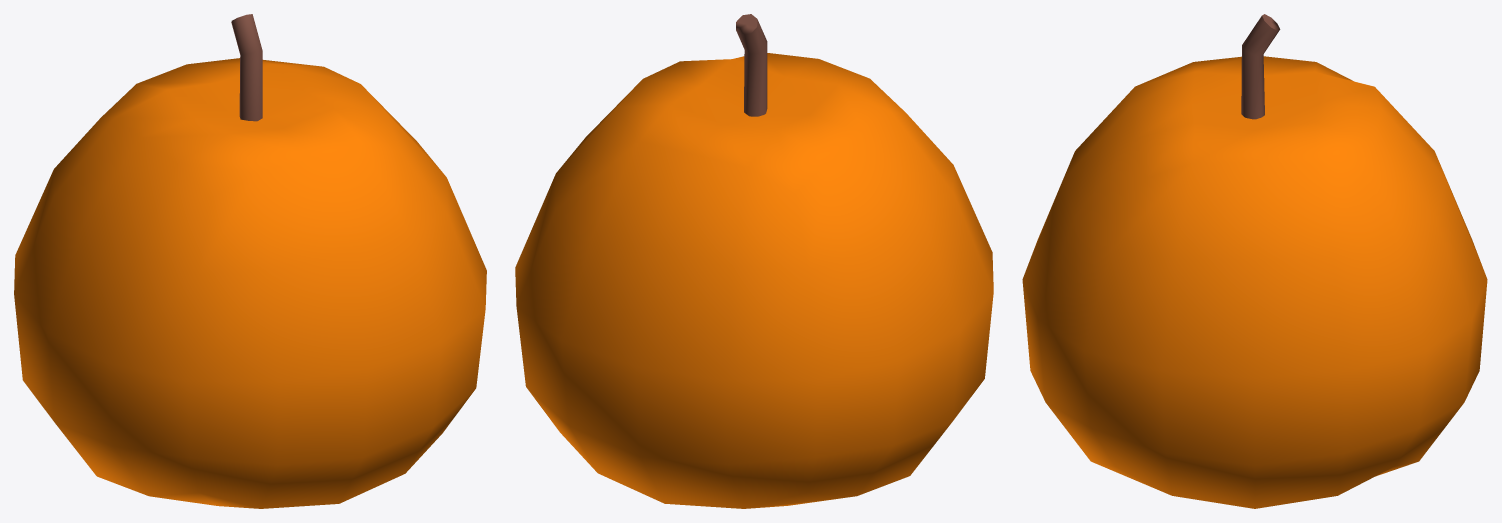
File: Store_10_Apple_3.glb
3 renders of one model, left to right at view 1: azimuth 30°, elevation 25°; view 2: azimuth 150°, elevation 25°; view 3: azimuth 270°, elevation 25°, orthographic.
Visible parts, largest first — view 1: Store_10_Apple_3; view 2: Store_10_Apple_3; view 3: Store_10_Apple_3.
Boxes of the visible parts, x1,y1,x2,y2 form: Store_10_Apple_3: (14, 14, 486, 508); Store_10_Apple_3: (515, 14, 993, 508); Store_10_Apple_3: (1022, 14, 1487, 508).
Size of the model in its own units: 0.1807 by 0.1867 by 0.1807.
1 material, 1 textured.
